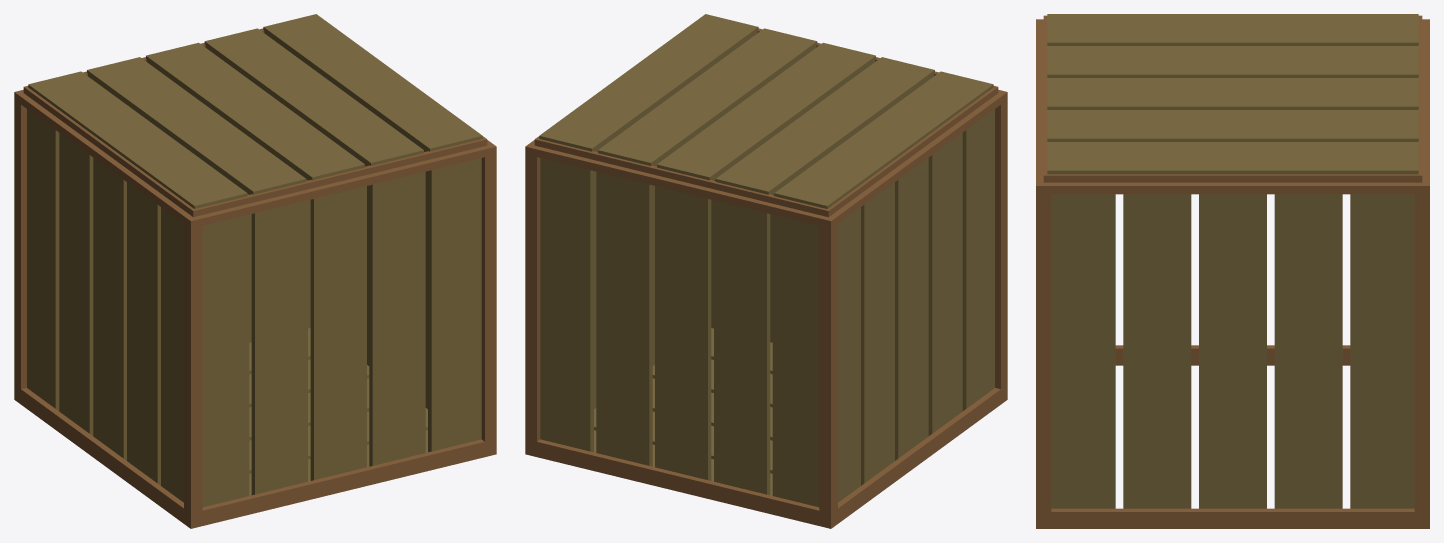
The model's file is Ammo Crate.fbx.
3 views of the same model, side by side, from view 1: azimuth 30°, elevation 25°; view 2: azimuth 150°, elevation 25°; view 3: azimuth 270°, elevation 25° (orthographic). The views are drawn at different scales.
Visible parts, largest first — view 1: Ammo Crate, Crate Lid; view 2: Ammo Crate, Crate Lid; view 3: Ammo Crate, Crate Lid.
Boxes of the visible parts, x1=… form: Ammo Crate: x1=14, y1=89, x2=496, y2=528; Crate Lid: x1=23, y1=14, x2=487, y2=217; Ammo Crate: x1=525, y1=89, x2=1007, y2=528; Crate Lid: x1=534, y1=14, x2=998, y2=217; Ammo Crate: x1=1036, y1=19, x2=1429, y2=528; Crate Lid: x1=1043, y1=14, x2=1422, y2=182.
Bounding box in the file's own units: 520 × 515 × 520.
